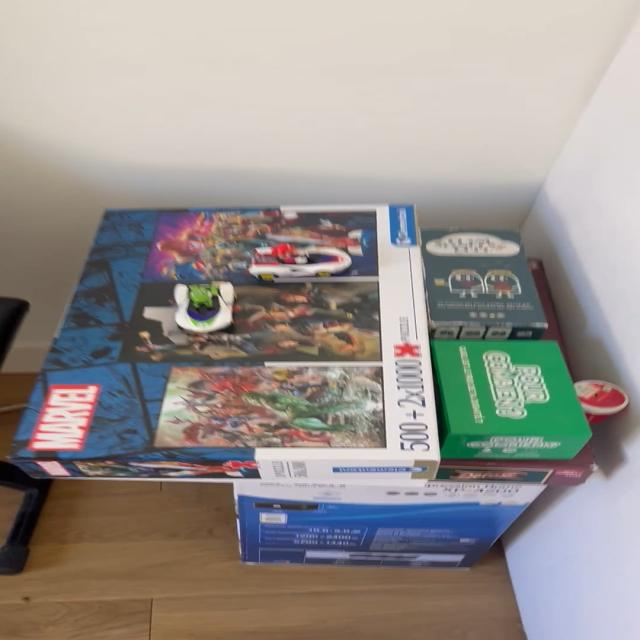mario: (246, 238, 360, 287)
yoshi: (169, 278, 241, 338)
